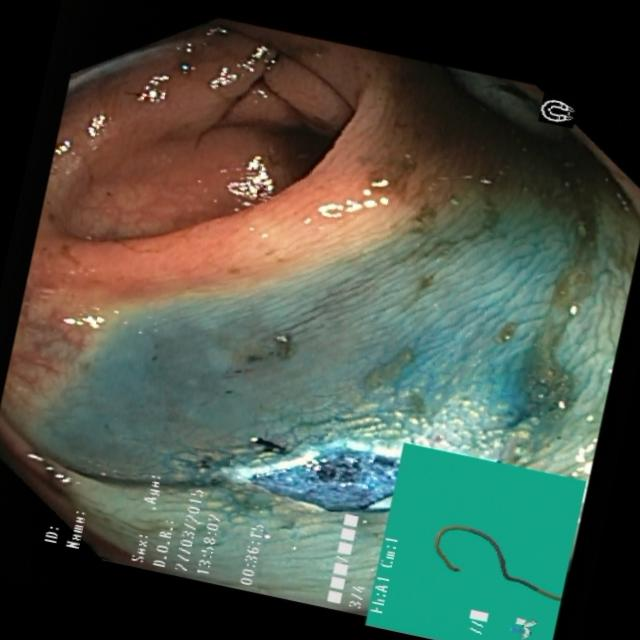dyed-resection-margins: (220, 428, 397, 525)
